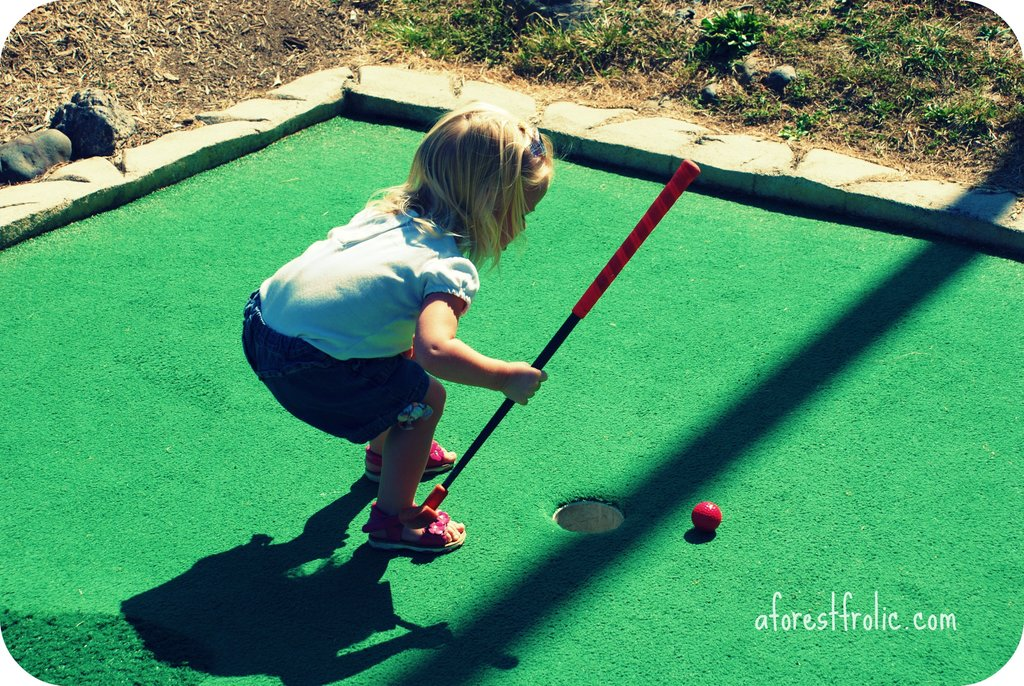Person: (240, 98, 575, 553)
